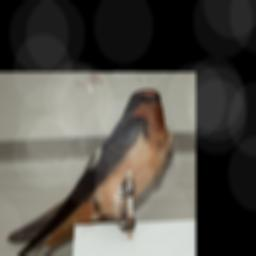Swallow: (0, 88, 168, 256)
